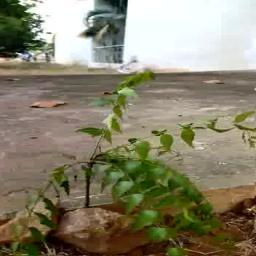Azadiractha Indica: (0, 60, 255, 255)
